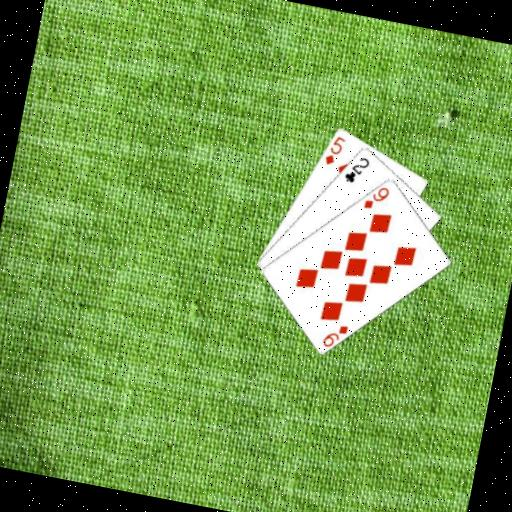2C: (340, 151, 372, 187)
5D: (321, 131, 348, 168)
9D: (319, 318, 351, 352), (360, 181, 392, 214)
